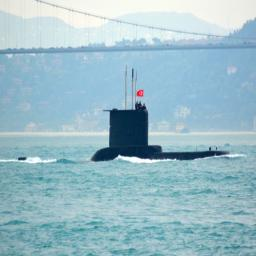submarine: (18, 112, 239, 163)
